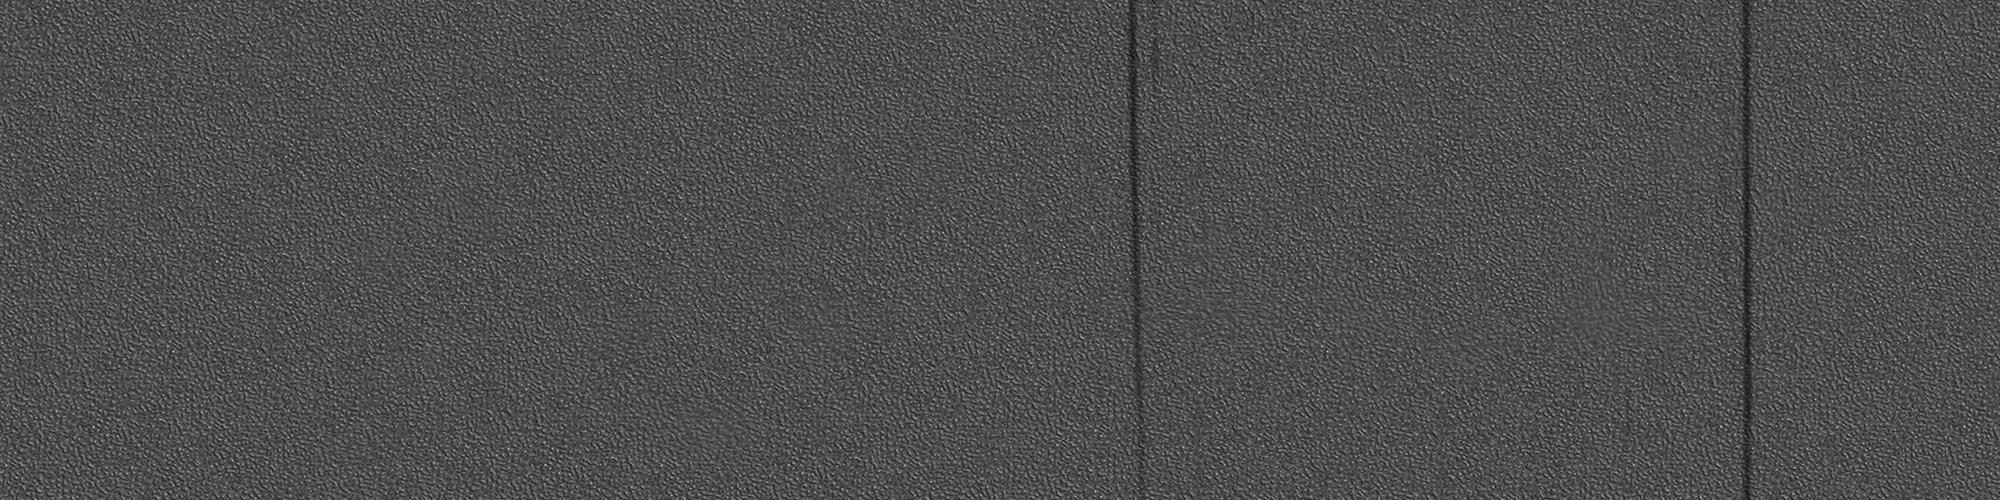DieDrag: (1108, 4, 1173, 497), (1719, 4, 1772, 497)
